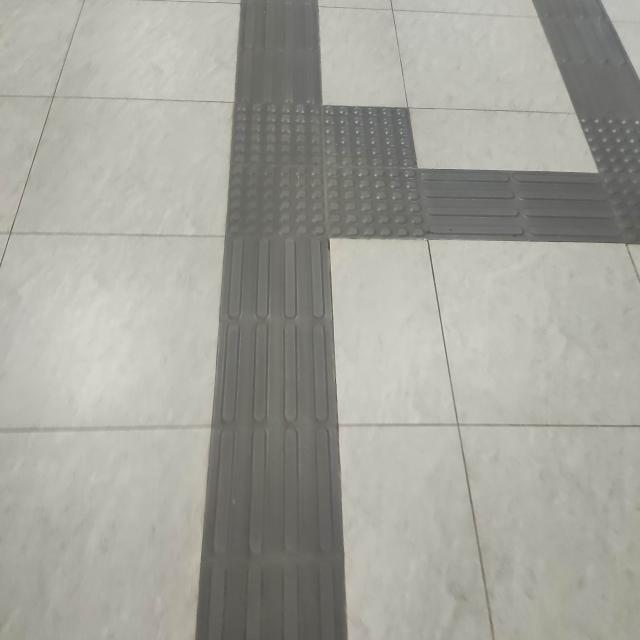lurus: (197, 223, 347, 640), (236, 0, 316, 99)
